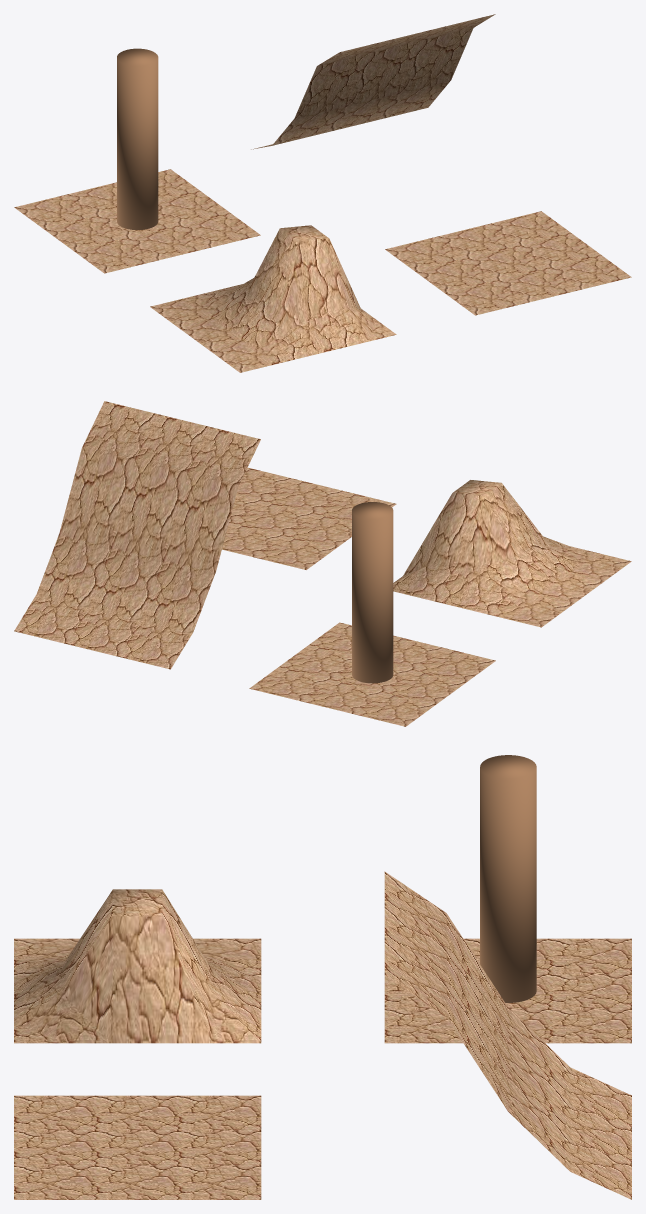
The model's file is terrain.dae.
3 renders of one model, top to bottom at view 1: azimuth 30°, elevation 25°; view 2: azimuth 150°, elevation 25°; view 3: azimuth 270°, elevation 25°, orthographic. The views are drawn at different scales.
Visible parts, largest first — view 1: pole, mount, plain, hill; view 2: hill, pole, mount, plain; view 3: mount, pole, hill, plain.
Part boxes in pixels (x1,y1,x2,y2): pole: (14,48,260,273); mount: (150,225,396,372); plain: (385,211,631,315); hill: (251,14,495,149); hill: (14,401,260,669); pole: (249,502,495,726); mount: (393,480,631,627); plain: (222,467,396,569); mount: (14,889,261,1043); pole: (384,755,631,1043); hill: (384,871,631,1199); plain: (14,1095,261,1199).
Bounding box in the file's own units: 5 × 5 × 2.
1 material, 1 textured.
